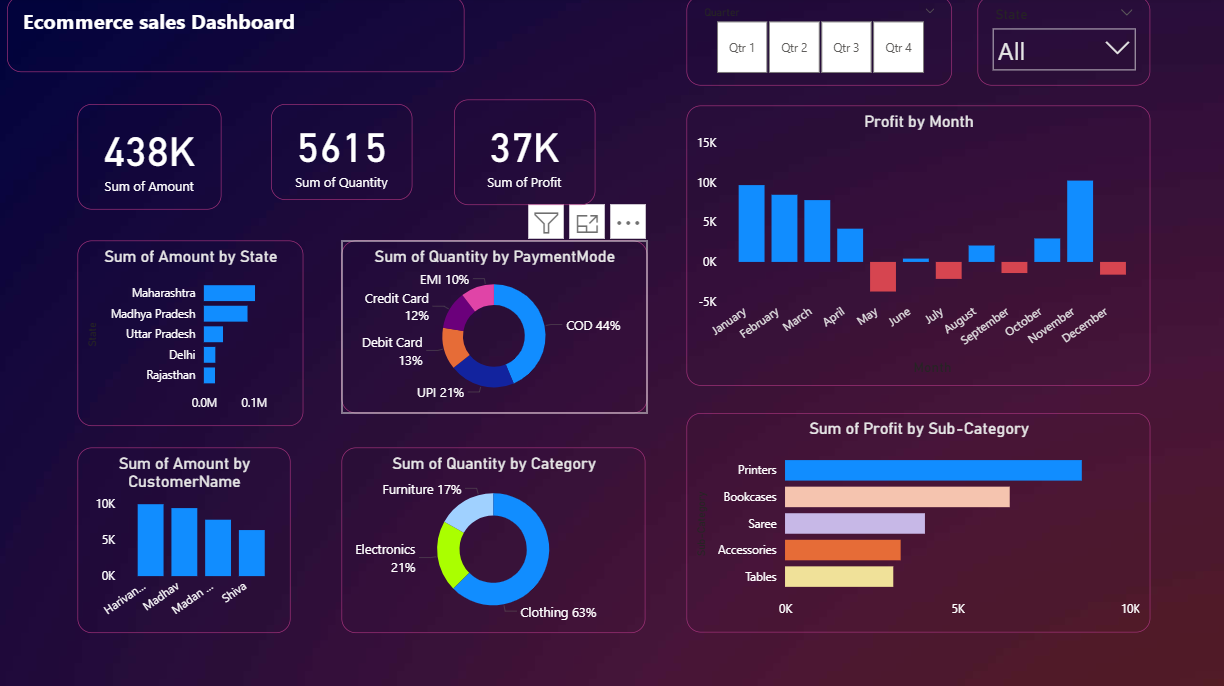

The page's visual inventory and layout, read from the dashboard file:
{"tool":"powerbi","page":{"name":"Page 1","canvas":[1280,720],"ordinal":0},"visuals":[{"type":"textbox","box":[10,0,476.4,79.1],"z":0},{"type":"columnChart","title":"Profit by Month","fields":{"Category":["Orders.Order Date.Variation.Date Hierarchy.Month"],"Y":["Sum(Details.Profit)"]},"box":[716.7,113.3,483.3,291.7],"z":1000},{"type":"barChart","fields":{"Category":["Details.Sub-Category"],"Y":["Sum(Details.Profit)"]},"box":[716.7,435,483.3,228.3],"z":2000},{"type":"donutChart","fields":{"Category":["Details.Category"],"Y":["Sum(Details.Quantity)"]},"box":[358.3,470,316.7,193.3],"z":3000},{"type":"donutChart","fields":{"Y":["Sum(Details.Quantity)"],"Category":["Details.PaymentMode"]},"box":[358.3,255,318.3,180],"z":4000},{"type":"card","fields":{"Values":["Sum(Details.Amount)"]},"box":[82.9,112.9,150,110],"z":5000},{"type":"card","fields":{"Values":["Sum(Details.Profit)"]},"box":[475.7,107.1,147.1,110],"z":6000},{"type":"card","fields":{"Values":["Sum(Details.Quantity)"]},"box":[284.3,112.9,147.1,100],"z":7000},{"type":"barChart","fields":{"Category":["Orders.State"],"Y":["Sum(Details.Amount)"]},"box":[83.3,255,235,193.3],"z":8000},{"type":"columnChart","fields":{"Category":["Orders.CustomerName"],"Y":["Sum(Details.Amount)"]},"box":[83.3,470,221.7,193.3],"z":9000},{"type":"slicer","fields":{"Values":["Orders.Order Date.Variation.Date Hierarchy.Quarter"]},"box":[716.7,0,276.7,93.3],"z":10000},{"type":"slicer","fields":{"Values":["Orders.State"]},"box":[1020,0,180,93.3],"z":10001}]}

Visuals, with their boxes in screenshot pixels (x1, y1, x2, y2), scaled from the page's 1280x720 canvas onto the 1224x686 screenshot:
textbox: (10,0,465,75)
"Profit by Month" columnChart: (685,108,1148,386)
barChart - Details.Sub-Category x Sum(Details.Profit): (685,414,1148,632)
donutChart - Details.Category x Sum(Details.Quantity): (343,448,645,632)
donutChart - Sum(Details.Quantity) x Details.PaymentMode: (343,243,647,414)
card - Sum(Details.Amount): (79,108,223,212)
card - Sum(Details.Profit): (455,102,596,207)
card - Sum(Details.Quantity): (272,108,413,203)
barChart - Orders.State x Sum(Details.Amount): (80,243,304,427)
columnChart - Orders.CustomerName x Sum(Details.Amount): (80,448,292,632)
slicer - Orders.Order Date.Variation.Date Hierarchy.Quarter: (685,0,950,89)
slicer - Orders.State: (975,0,1148,89)
